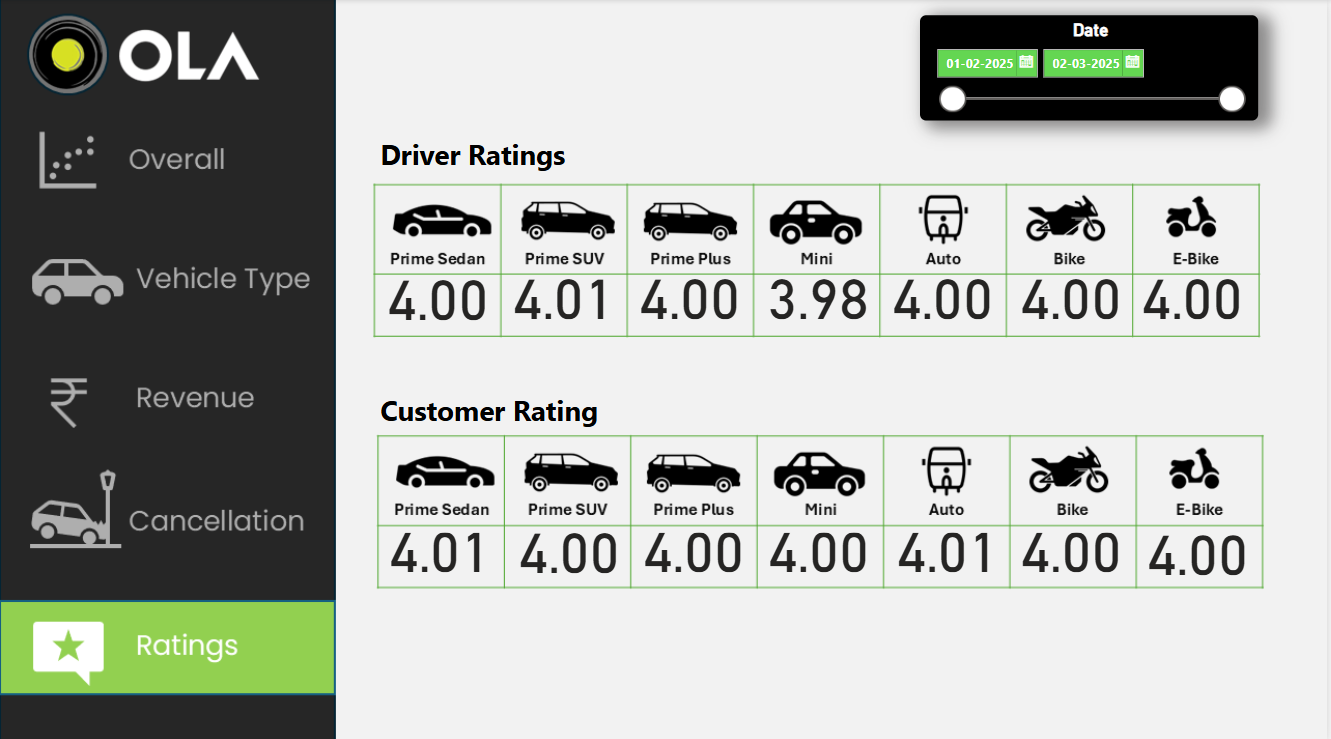

This screenshot's page, from the dashboard's own definition file:
{"tool":"powerbi","page":{"name":"Ratings","canvas":[1280,720],"ordinal":4},"visuals":[{"type":"card","fields":{"Values":["Avg(Sheet1.Driver Ratings)"]},"box":[362.8,265.1,119.2,58.9],"z":0},{"type":"card","fields":{"Values":["Avg(Sheet1.Driver Ratings)"]},"box":[480.8,264.8,125.1,58.5],"z":1000},{"type":"card","fields":{"Values":["Avg(Sheet1.Driver Ratings)"]},"box":[602.6,264.8,125.1,58.5],"z":2000},{"type":"card","fields":{"Values":["Avg(Sheet1.Driver Ratings)"]},"box":[727.7,264.8,125.1,58.5],"z":3000},{"type":"card","fields":{"Values":["Avg(Sheet1.Driver Ratings)"]},"box":[852.8,264.8,113.7,58.5],"z":4000},{"type":"card","fields":{"Values":["Avg(Sheet1.Driver Ratings)"]},"box":[977.9,264.8,110.5,58.5],"z":5000},{"type":"card","fields":{"Values":["Avg(Sheet1.Driver Ratings)"]},"box":[1088.3,264.8,125.1,58.5],"z":6000},{"type":"textbox","box":[362,126.8,199.5,47.6],"z":7000},{"type":"textbox","box":[362.2,373.6,229,48.7],"z":8000},{"type":"card","fields":{"Values":["Avg(Sheet1.Customer Rating)"]},"box":[362.2,510.1,125.1,55.2],"z":9000},{"type":"card","fields":{"Values":["Avg(Sheet1.Customer Rating)"]},"box":[487.5,510,124.2,58.1],"z":9001},{"type":"card","fields":{"Values":["Avg(Sheet1.Customer Rating)"]},"box":[606.4,510,125.5,55.5],"z":9002},{"type":"card","fields":{"Values":["Avg(Sheet1.Customer Rating)"]},"box":[728,510,125.5,55.5],"z":9003},{"type":"card","fields":{"Values":["Avg(Sheet1.Customer Rating)"]},"box":[852.2,510,125.5,55.5],"z":9004},{"type":"card","fields":{"Values":["Avg(Sheet1.Customer Rating)"]},"box":[971.1,510,125.5,55.5],"z":9005},{"type":"card","fields":{"Values":["Avg(Sheet1.Customer Rating)"]},"box":[1097.9,512.6,116.3,55.5],"z":9006},{"type":"slicer","title":"Date","fields":{"Values":["Sheet1.Date"]},"box":[887.9,15.9,326.3,101.7],"z":9007}]}

Visuals, with their boxes on the page's 1280x720 design canvas (x1, y1, x2, y2). These are canvas units, not pixel positions in the 1331x739 screenshot, which may show the page scaled, cropped or inside an application window:
card - Avg(Sheet1.Driver Ratings): {"x1": 363, "y1": 265, "x2": 482, "y2": 324}
card - Avg(Sheet1.Driver Ratings): {"x1": 481, "y1": 265, "x2": 606, "y2": 323}
card - Avg(Sheet1.Driver Ratings): {"x1": 603, "y1": 265, "x2": 728, "y2": 323}
card - Avg(Sheet1.Driver Ratings): {"x1": 728, "y1": 265, "x2": 853, "y2": 323}
card - Avg(Sheet1.Driver Ratings): {"x1": 853, "y1": 265, "x2": 966, "y2": 323}
card - Avg(Sheet1.Driver Ratings): {"x1": 978, "y1": 265, "x2": 1088, "y2": 323}
card - Avg(Sheet1.Driver Ratings): {"x1": 1088, "y1": 265, "x2": 1213, "y2": 323}
textbox: {"x1": 362, "y1": 127, "x2": 562, "y2": 174}
textbox: {"x1": 362, "y1": 374, "x2": 591, "y2": 422}
card - Avg(Sheet1.Customer Rating): {"x1": 362, "y1": 510, "x2": 487, "y2": 565}
card - Avg(Sheet1.Customer Rating): {"x1": 488, "y1": 510, "x2": 612, "y2": 568}
card - Avg(Sheet1.Customer Rating): {"x1": 606, "y1": 510, "x2": 732, "y2": 566}
card - Avg(Sheet1.Customer Rating): {"x1": 728, "y1": 510, "x2": 854, "y2": 566}
card - Avg(Sheet1.Customer Rating): {"x1": 852, "y1": 510, "x2": 978, "y2": 566}
card - Avg(Sheet1.Customer Rating): {"x1": 971, "y1": 510, "x2": 1097, "y2": 566}
card - Avg(Sheet1.Customer Rating): {"x1": 1098, "y1": 513, "x2": 1214, "y2": 568}
"Date" slicer: {"x1": 888, "y1": 16, "x2": 1214, "y2": 118}
